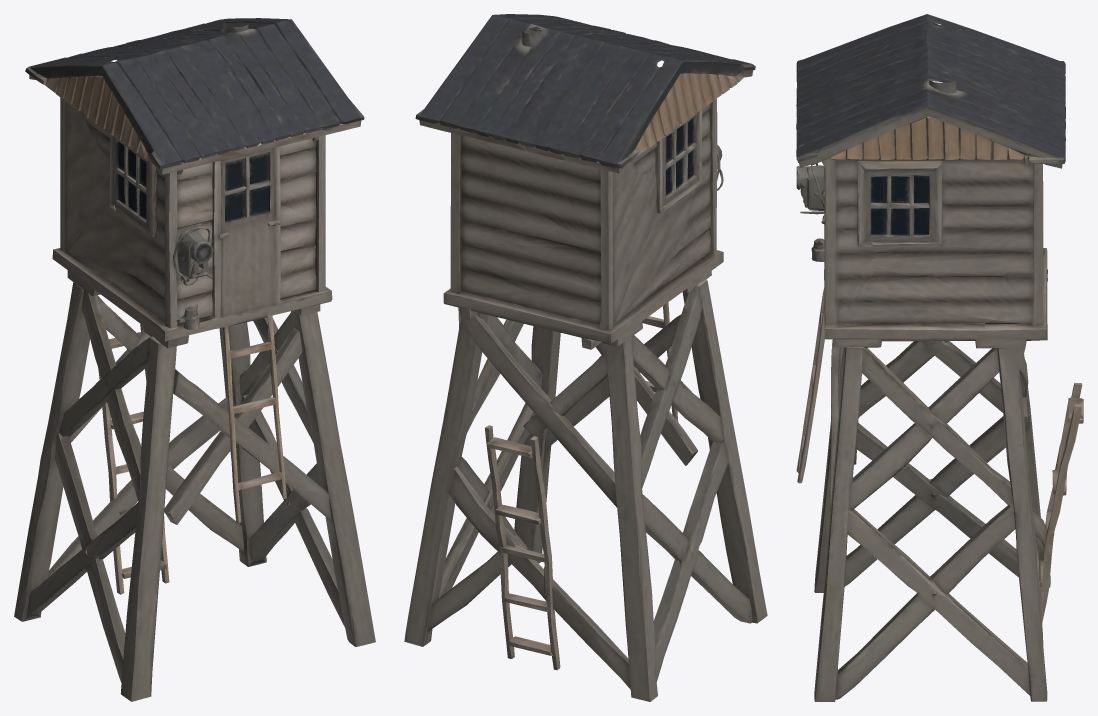
Rendered from guard_tower.glb.
3 views of the same model, side by side, from view 1: azimuth 30°, elevation 25°; view 2: azimuth 150°, elevation 25°; view 3: azimuth 270°, elevation 25° (orthographic).
Parts seen in each view (by area): view 1: main; view 2: main; view 3: main.
Part boxes in pixels (box(x1,y1,x2,y2)): main: box(14, 18, 375, 701); main: box(404, 14, 767, 701); main: box(796, 14, 1083, 701).
Bounding box in the file's own units: 3.04 × 7.03 × 3.11.
1 material, 1 textured.
